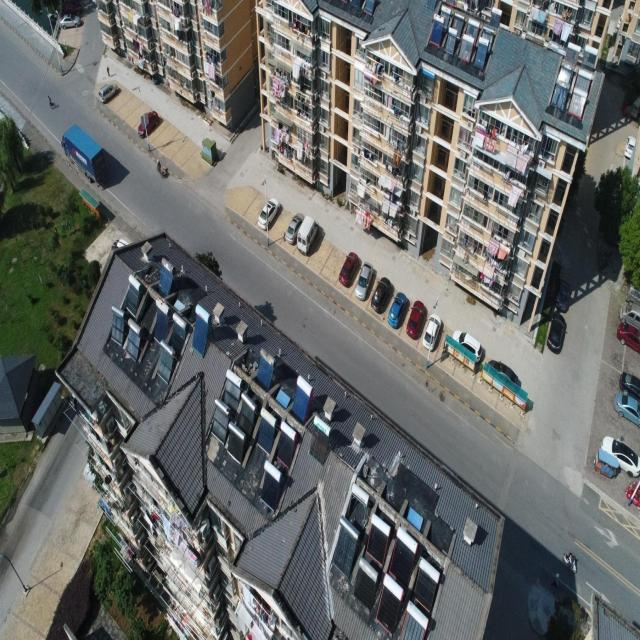p3rson: (47, 94, 53, 109), (106, 64, 111, 76), (156, 159, 160, 172)
